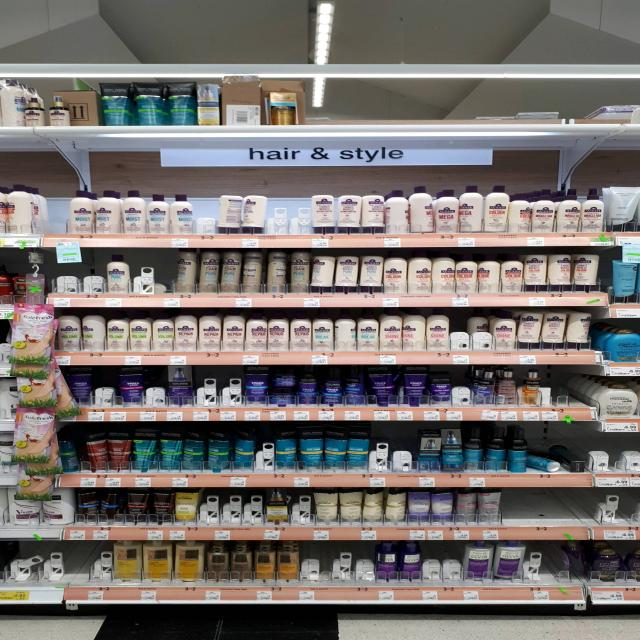void: (522, 74, 574, 152), (467, 75, 522, 148), (575, 76, 630, 149), (312, 542, 370, 598), (379, 74, 428, 138), (542, 485, 591, 543), (270, 190, 314, 248), (592, 435, 640, 488), (431, 78, 468, 146), (423, 541, 463, 601), (341, 76, 381, 136), (0, 546, 46, 596), (451, 308, 494, 361), (598, 488, 640, 542), (301, 76, 337, 136), (43, 544, 85, 594), (204, 369, 242, 422), (379, 429, 416, 483), (85, 541, 120, 597), (529, 542, 564, 597), (43, 183, 70, 252), (141, 246, 170, 310), (551, 368, 584, 423), (195, 188, 224, 250), (508, 486, 540, 540), (72, 249, 102, 305), (206, 491, 235, 542), (456, 369, 482, 422), (236, 486, 260, 542), (36, 254, 58, 308)
